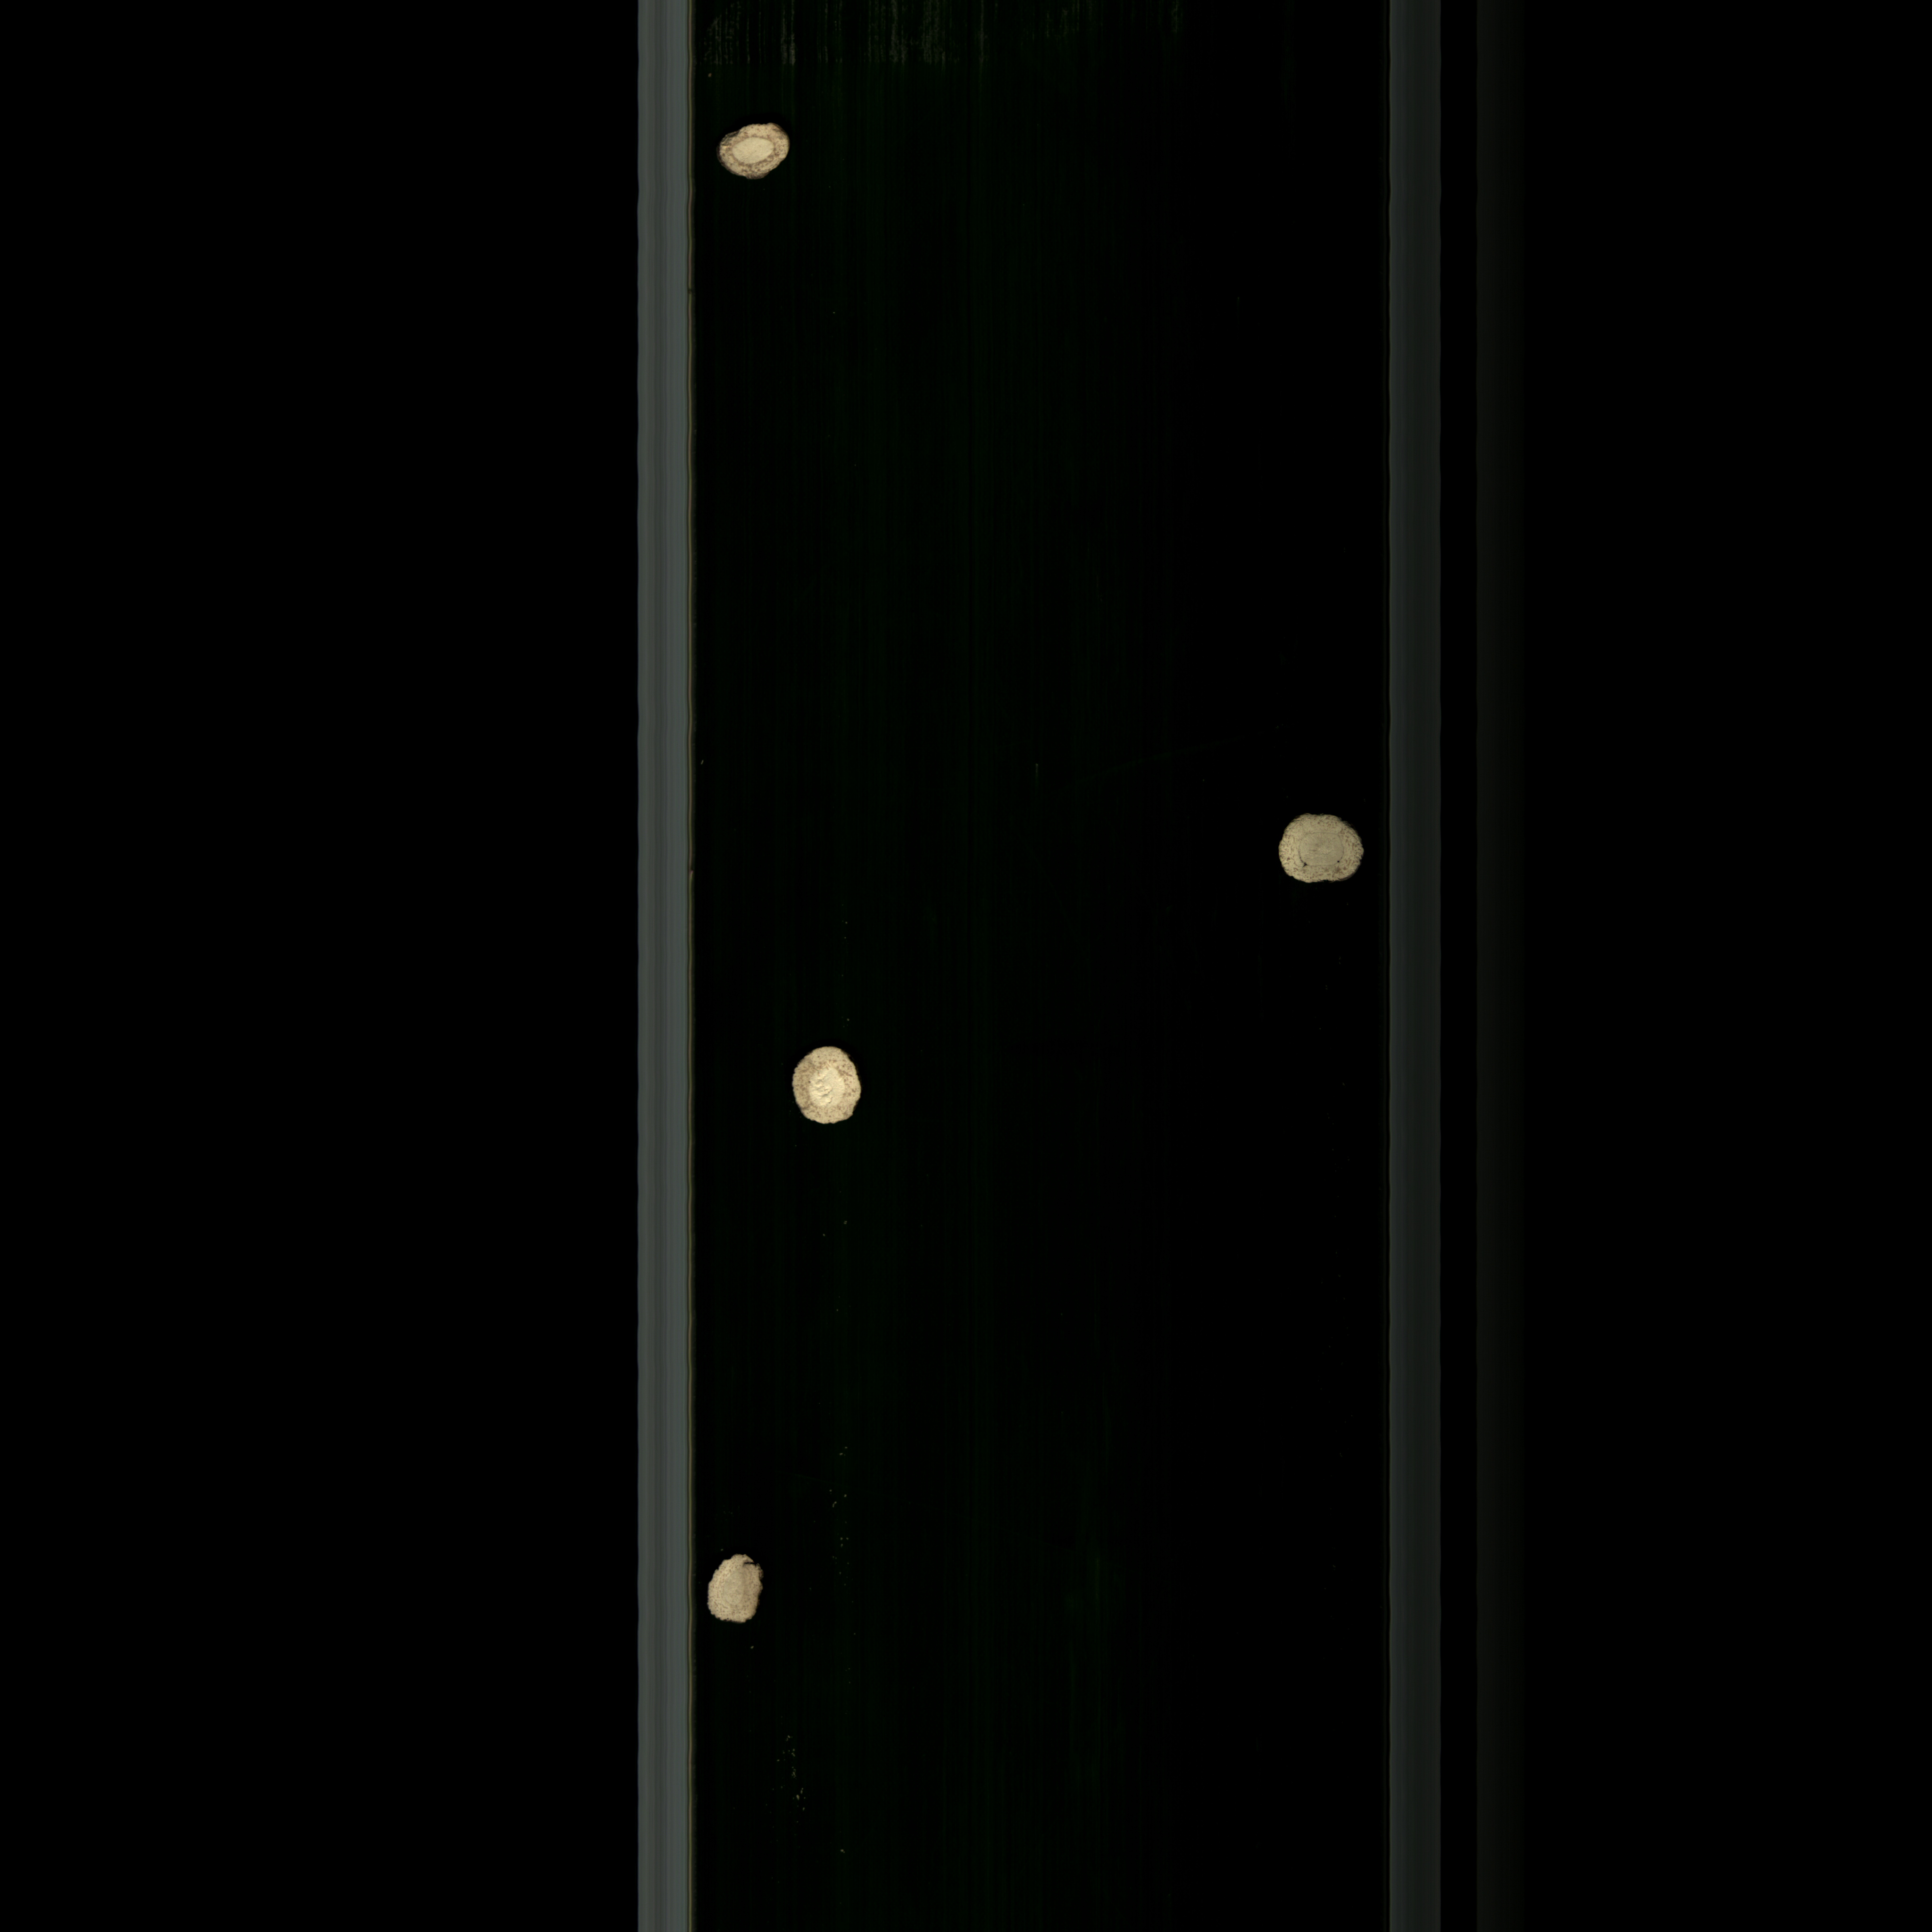moldy: (720, 122, 796, 191)
